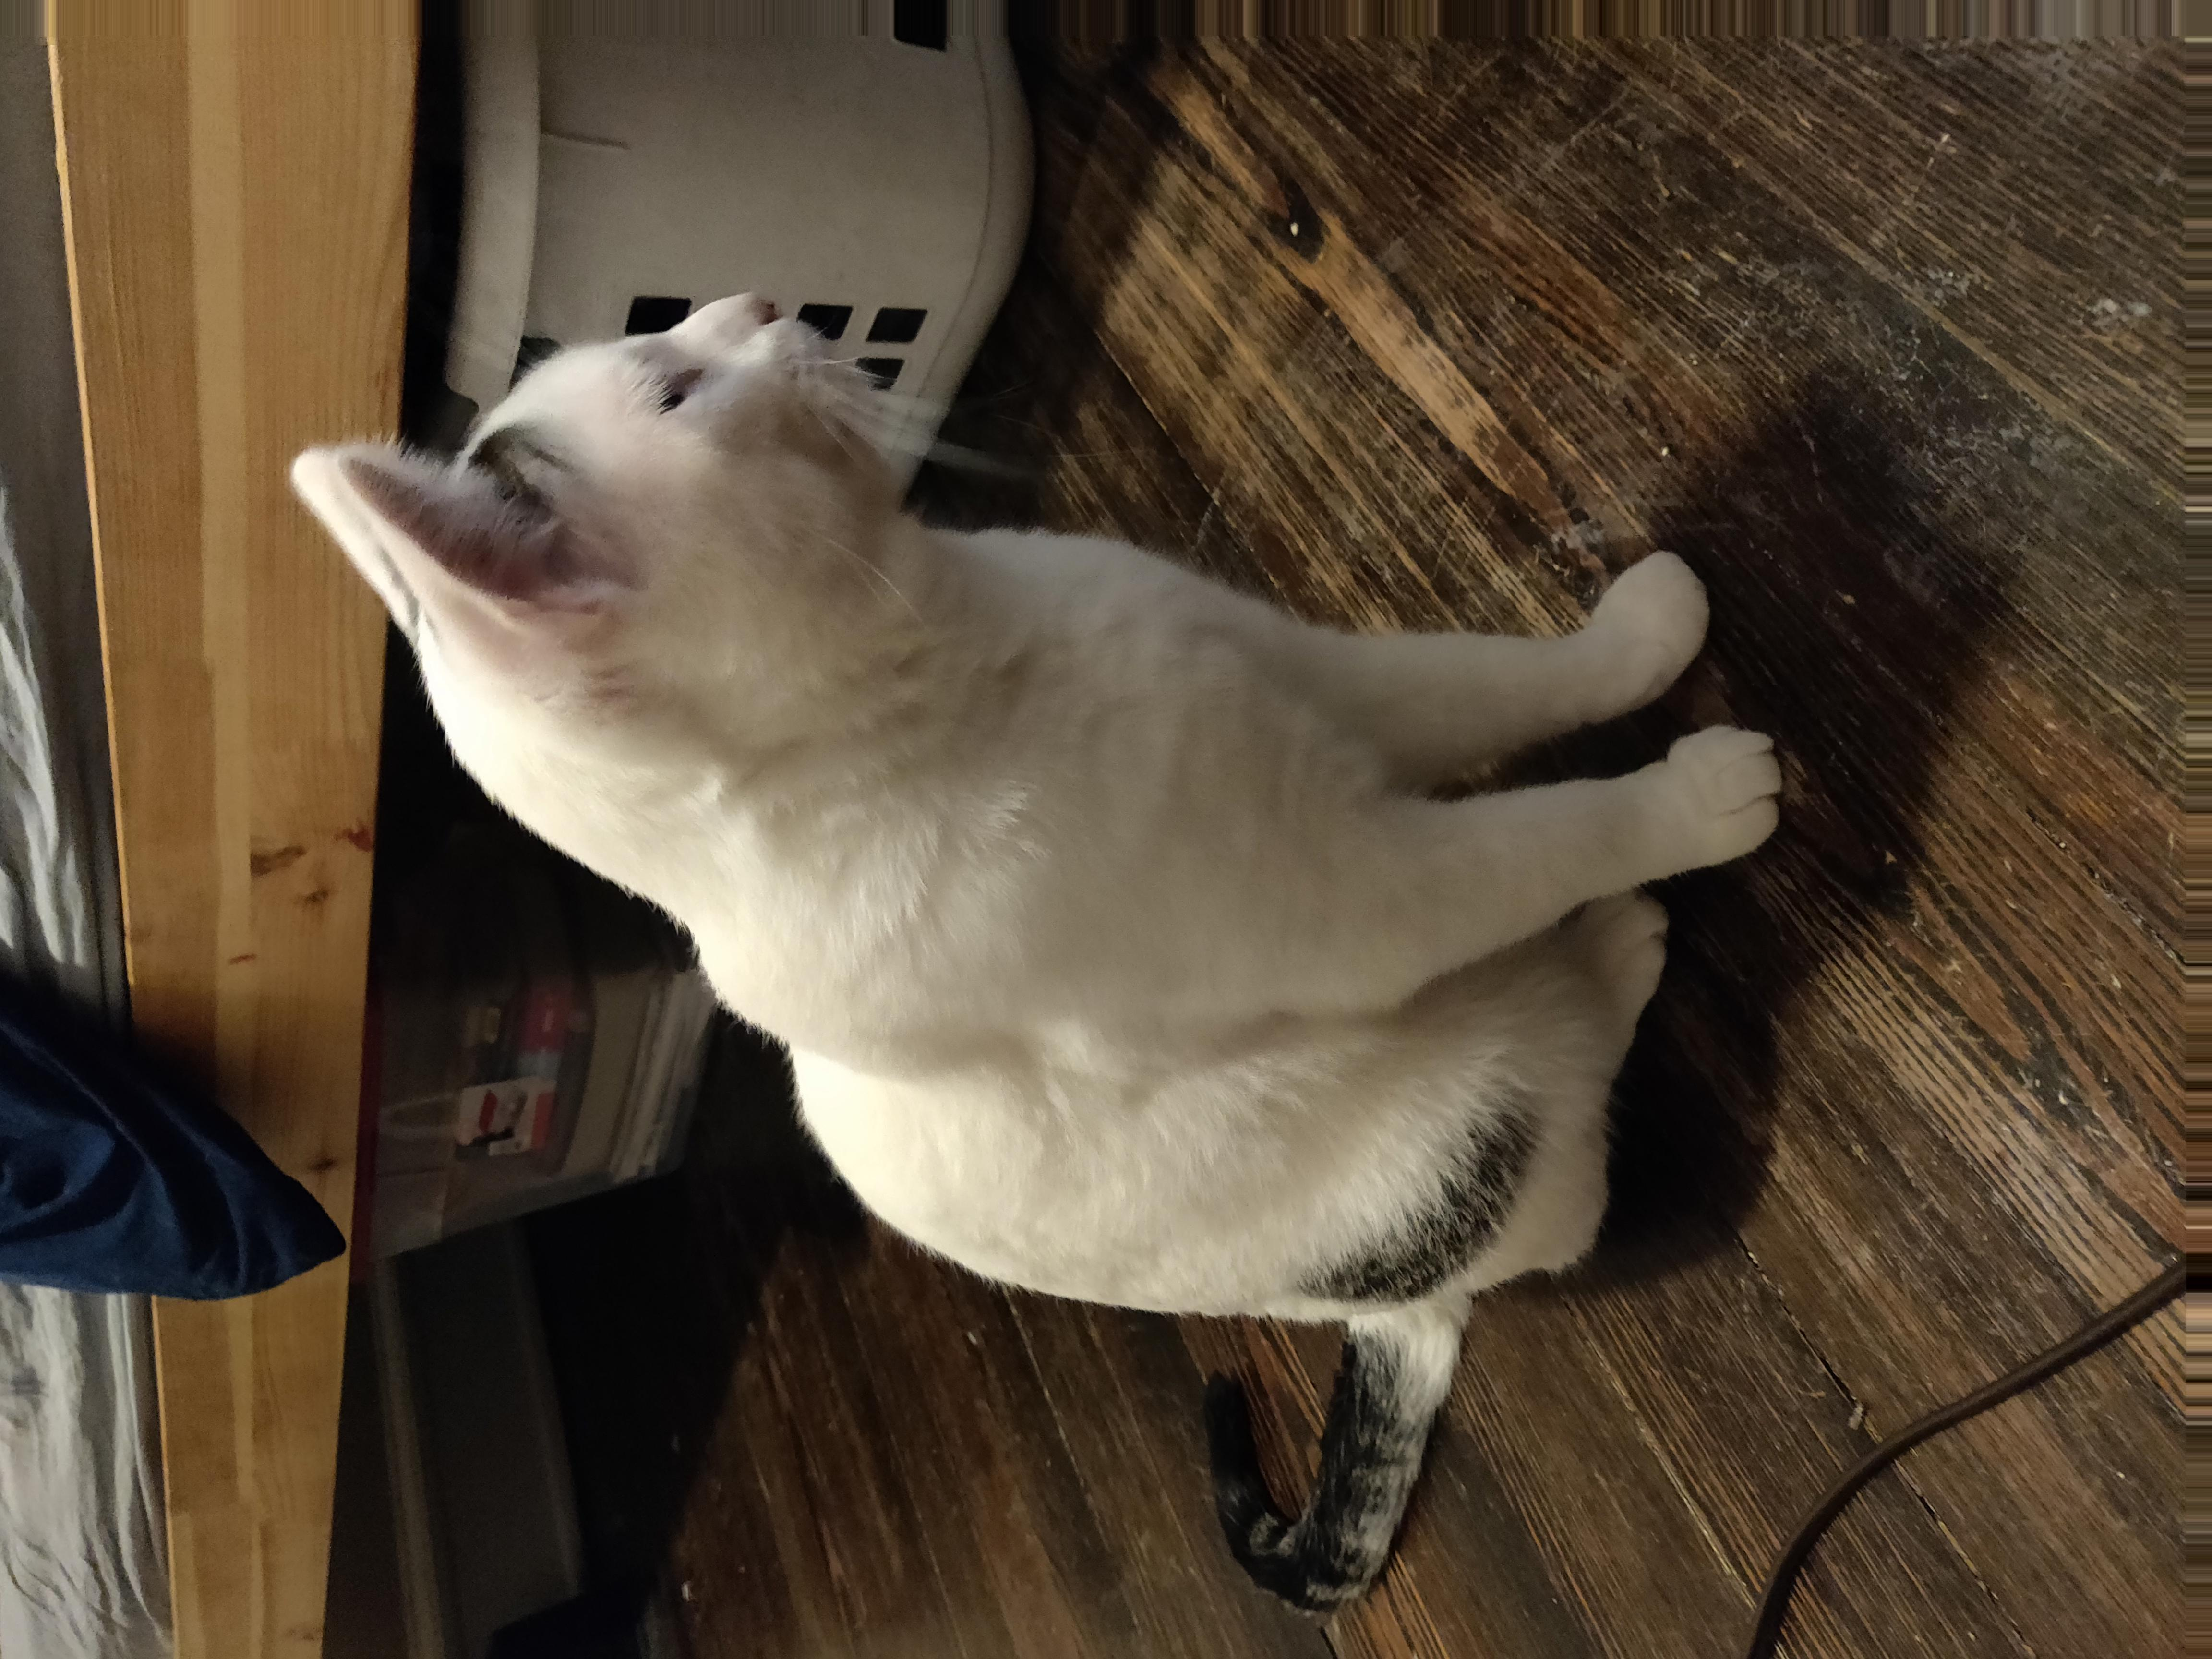cat: (257, 295, 1780, 1307)
